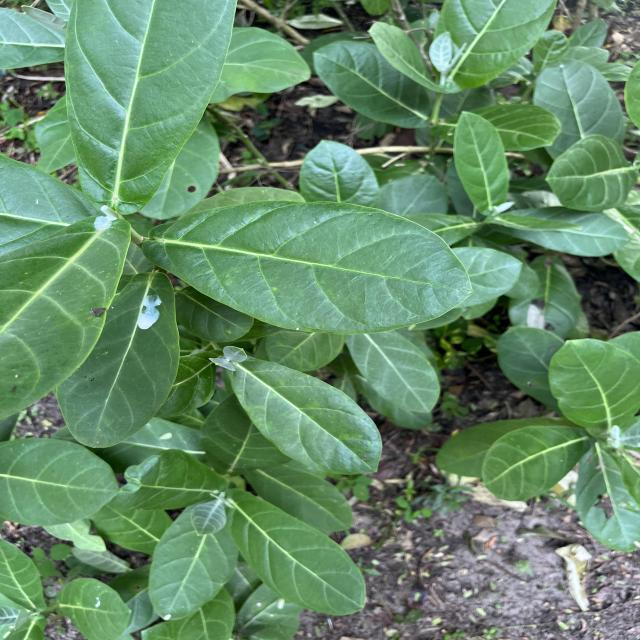Calotropis gigantea: (140, 198, 475, 336), (63, 0, 239, 209), (55, 271, 181, 449), (224, 354, 385, 476), (222, 488, 368, 616), (147, 500, 240, 622), (311, 41, 435, 128), (547, 338, 640, 437), (480, 424, 592, 502), (347, 330, 442, 414), (544, 132, 638, 214), (452, 110, 510, 216)
